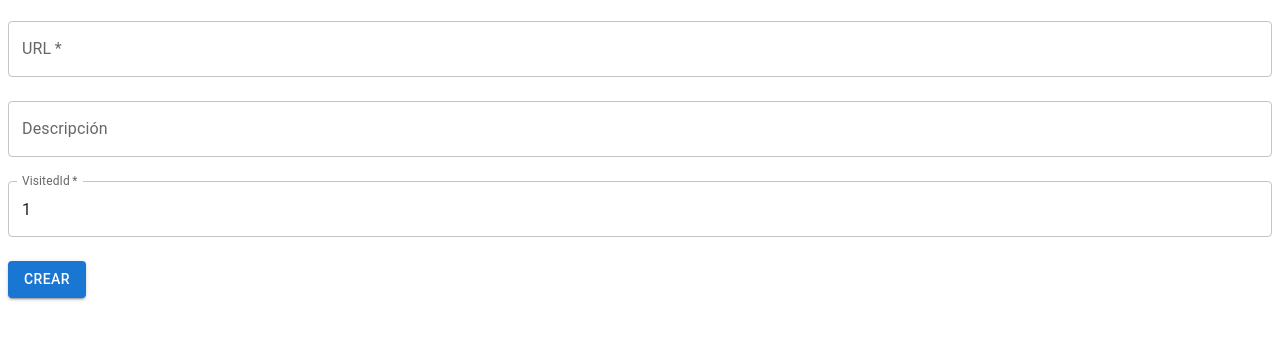
Scenario: PhotoForm › muestra mensaje de error si falla el submit
This screenshot has width=1280, height=351.
Type "http://test.com" into the field labelled "URL *" at point(640, 49), box x1=8 y1=21 x2=1272 y2=77
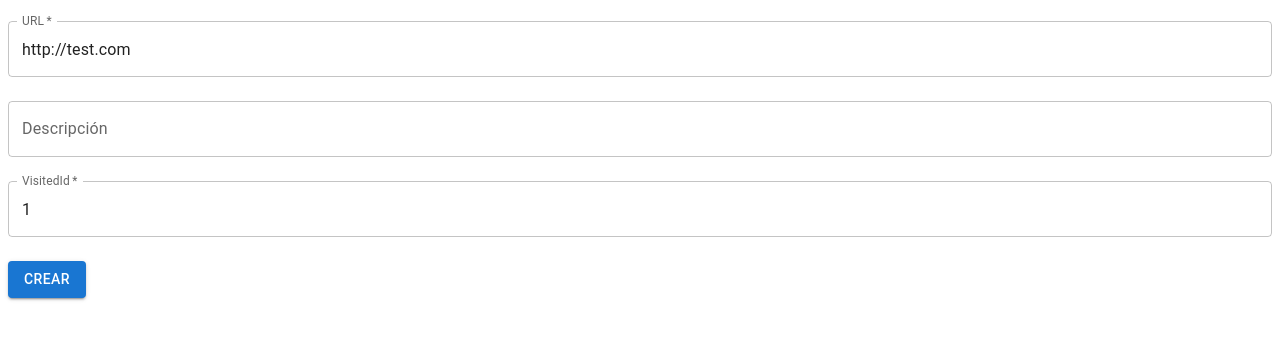
Replace the text in the number field labelled "VisitedId *" with "2" at point(640, 209), box x1=8 y1=181 x2=1272 y2=237
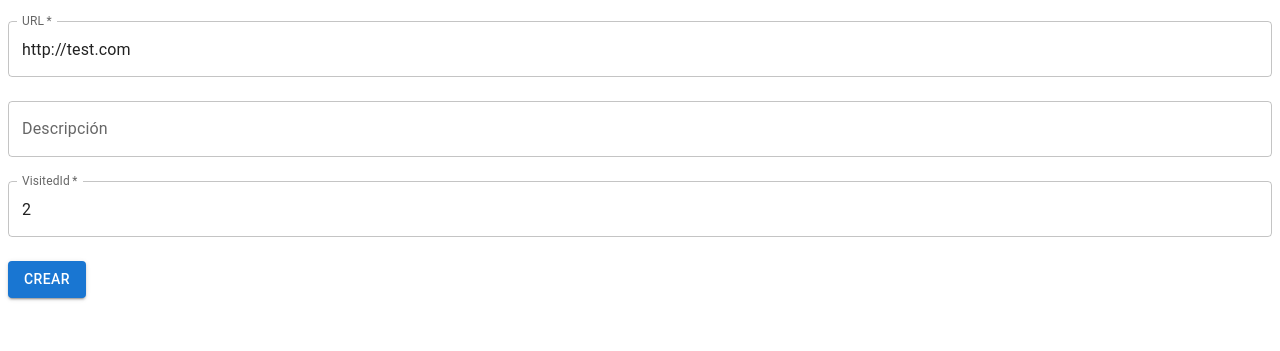
Click the button "Crear" at point(47, 279), box x1=8 y1=261 x2=86 y2=298
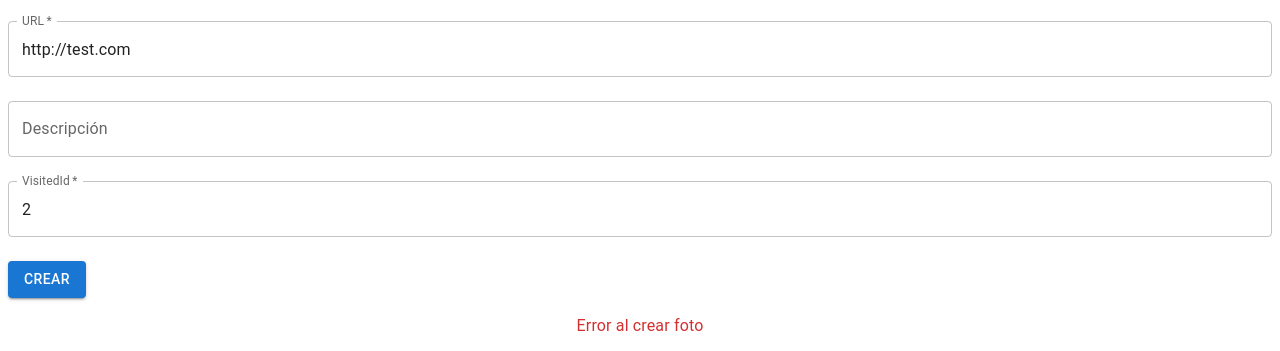
Check: the text "Error al crear foto" is shown, box x1=577 y1=316 x2=703 y2=334
